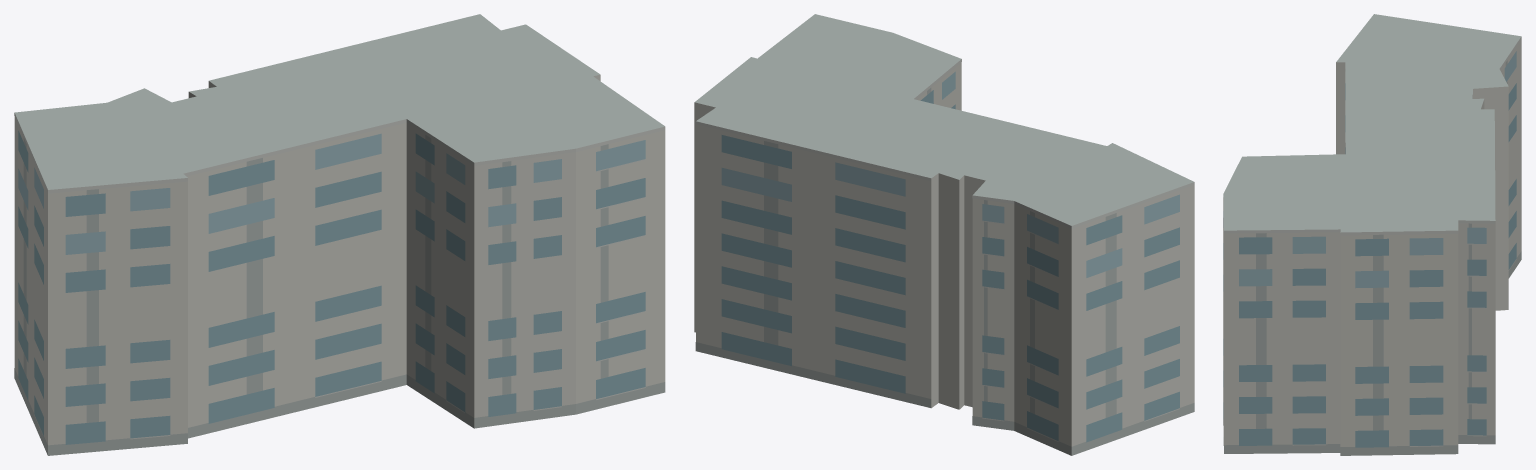
The model's file is survey-upis-32890584.glb.
3 views of the same model, side by side, from view 1: azimuth 30°, elevation 25°; view 2: azimuth 150°, elevation 25°; view 3: azimuth 270°, elevation 25° (orthographic). The views are drawn at different scales.
Visible parts, largest first — view 1: survey-upis-32890584.tmp; view 2: survey-upis-32890584.tmp; view 3: survey-upis-32890584.tmp.
Boxes of the visible parts, box(x1,y1,x2,y2) form: survey-upis-32890584.tmp: box(14, 14, 665, 455); survey-upis-32890584.tmp: box(694, 14, 1194, 455); survey-upis-32890584.tmp: box(1223, 14, 1521, 455).
Size of the model in its own units: 38.59 by 18.4 by 22.26.
